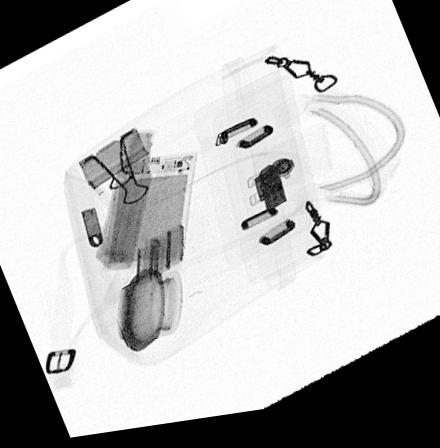Powerbank: (101, 155, 199, 280)
